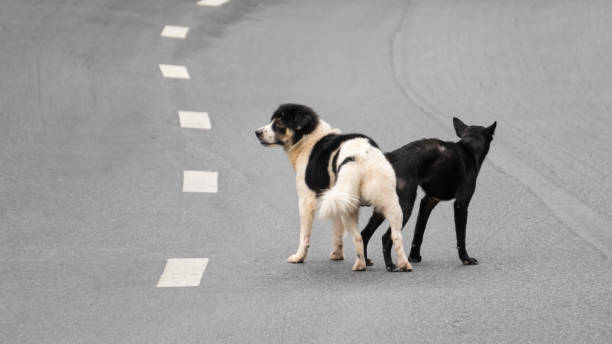kopek: (245, 93, 413, 285), (374, 108, 508, 276)
